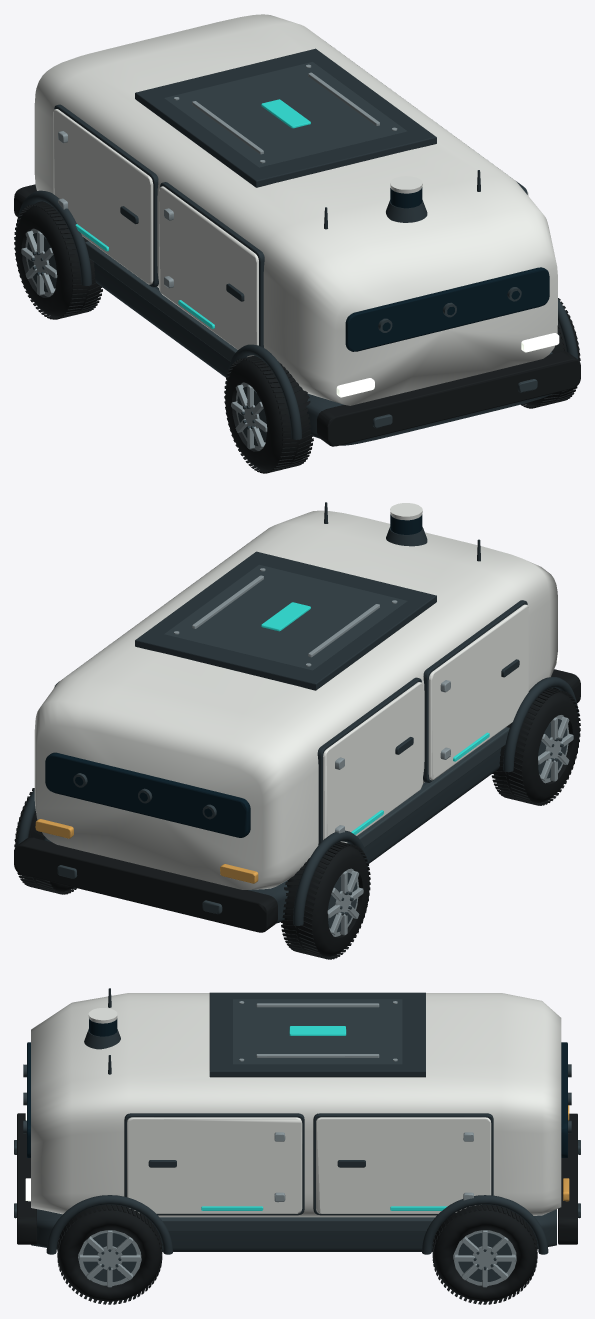
File: mother-medium.gltf
The picture shows the model from 3 angles, top to bottom: view 1: azimuth 30°, elevation 25°; view 2: azimuth 150°, elevation 25°; view 3: azimuth 270°, elevation 25°; orthographic projection. The views are drawn at different scales.
Parts seen in each view (by area): view 1: static-ceramic_paint, static-tyre_rubber (×4), static-graphite_composite, static-anodized_metal (×2), static-sensor_glass, static-brushed_aluminium (×3), static-headlight, static-status_strip; view 2: static-ceramic_paint, static-tyre_rubber (×4), static-graphite_composite, static-anodized_metal (×2), static-sensor_glass, static-brushed_aluminium (×3), static-reflector, static-status_strip; view 3: static-ceramic_paint, static-graphite_composite, static-anodized_metal (×4), static-tyre_rubber (×3), static-brushed_aluminium (×3), static-sensor_glass, static-status_strip (×2).
Boxes of the visible parts, left/top/right/bottom form: static-ceramic_paint: left=34, top=14, right=557, bottom=405; static-tyre_rubber (×4): left=14, top=184, right=580, bottom=473; static-graphite_composite: left=16, top=48, right=578, bottom=445; static-anodized_metal (×2): left=85, top=62, right=537, bottom=428; static-sensor_glass: left=345, top=187, right=549, bottom=351; static-brushed_aluminium (×3): left=21, top=64, right=397, bottom=450; static-headlight: left=336, top=333, right=559, bottom=397; static-status_strip: left=261, top=99, right=310, bottom=128; static-ceramic_paint: left=34, top=503, right=557, bottom=889; static-tyre_rubber (×4): left=14, top=669, right=580, bottom=959; static-graphite_composite: left=16, top=502, right=578, bottom=925; static-anodized_metal (×2): left=57, top=564, right=509, bottom=914; static-sensor_glass: left=45, top=514, right=422, bottom=837; static-brushed_aluminium (×3): left=174, top=568, right=573, bottom=936; static-reflector: left=35, top=819, right=258, bottom=883; static-status_strip: left=261, top=602, right=310, bottom=631; static-ceramic_paint: left=31, top=993, right=561, bottom=1217; static-graphite_composite: left=31, top=988, right=556, bottom=1254; static-anodized_metal (×4): left=14, top=999, right=580, bottom=1281; static-tyre_rubber (×3): left=17, top=1113, right=577, bottom=1304; static-brushed_aluminium (×3): left=78, top=1001, right=516, bottom=1287; static-sensor_glass: left=27, top=1018, right=567, bottom=1157; static-status_strip (×2): left=201, top=1026, right=447, bottom=1210.
Size of the model in its own units: 2.35 by 1.83 by 4.17.
